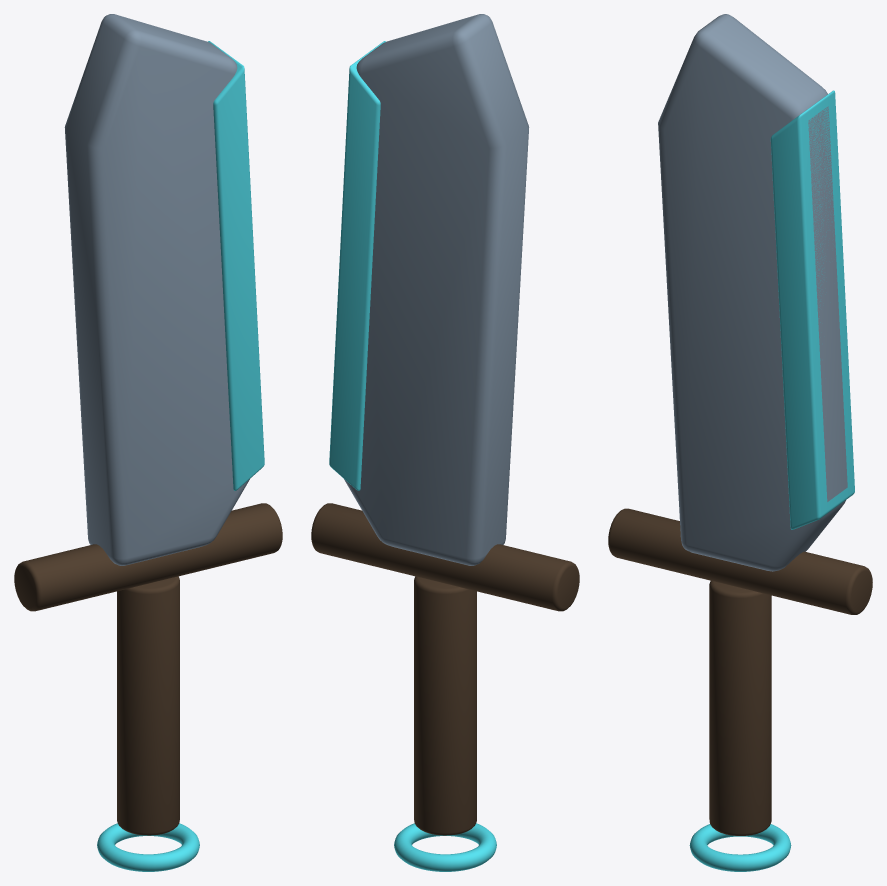
File: sword_v7.glb
3 renders of one model, left to right at view 1: azimuth 30°, elevation 25°; view 2: azimuth 150°, elevation 25°; view 3: azimuth 330°, elevation 25°, orthographic.
Parts seen in each view (by area): view 1: CLEAVER_BLADE_PRIMARY, GRIP_SECONDARY, CLEAVER_EDGE_ACCENT, CLEAVER_GUARD_SECONDARY, POMMEL_ACCENT; view 2: CLEAVER_BLADE_PRIMARY, GRIP_SECONDARY, CLEAVER_EDGE_ACCENT, CLEAVER_GUARD_SECONDARY, POMMEL_ACCENT; view 3: CLEAVER_BLADE_PRIMARY, CLEAVER_EDGE_ACCENT, GRIP_SECONDARY, CLEAVER_GUARD_SECONDARY, POMMEL_ACCENT.
Part boxes in pixels (bbox=[...]): CLEAVER_BLADE_PRIMARY: bbox=[64, 14, 249, 565]; GRIP_SECONDARY: bbox=[117, 576, 179, 835]; CLEAVER_EDGE_ACCENT: bbox=[208, 41, 264, 490]; CLEAVER_GUARD_SECONDARY: bbox=[14, 503, 282, 611]; POMMEL_ACCENT: bbox=[97, 823, 199, 871]; CLEAVER_BLADE_PRIMARY: bbox=[344, 14, 529, 565]; GRIP_SECONDARY: bbox=[414, 576, 476, 835]; CLEAVER_EDGE_ACCENT: bbox=[329, 41, 385, 490]; CLEAVER_GUARD_SECONDARY: bbox=[311, 503, 579, 611]; POMMEL_ACCENT: bbox=[394, 823, 496, 871]; CLEAVER_BLADE_PRIMARY: bbox=[658, 14, 847, 571]; CLEAVER_EDGE_ACCENT: bbox=[770, 90, 854, 529]; GRIP_SECONDARY: bbox=[709, 581, 771, 835]; CLEAVER_GUARD_SECONDARY: bbox=[608, 508, 872, 614]; POMMEL_ACCENT: bbox=[689, 824, 791, 871].
Bounding box in the file's own units: 1.44 × 4.68 × 0.522.
